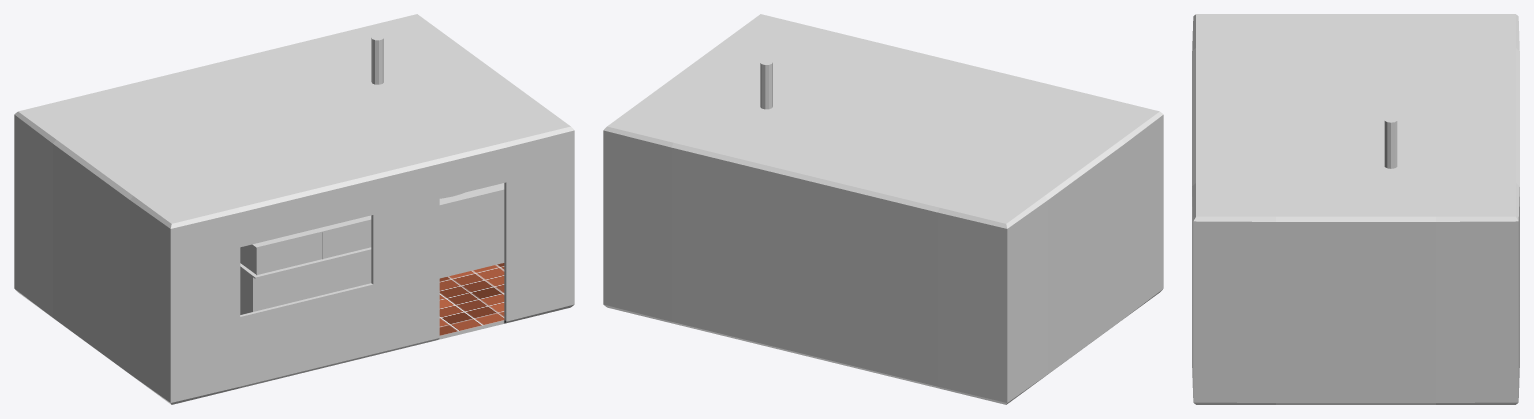
3 views of the same model, side by side, from view 1: azimuth 30°, elevation 25°; view 2: azimuth 150°, elevation 25°; view 3: azimuth 270°, elevation 25° (orthographic). The views are drawn at different scales.
Parts seen in each view (by area): view 1: Building_Baked, Counter_Baked, Oven_Baked; view 2: Building_Baked, Oven_Baked; view 3: Building_Baked, Oven_Baked.
Part boxes in pixels (box(x1,y1,x2,y2)): Building_Baked: box(14, 14, 574, 404); Counter_Baked: box(240, 215, 371, 314); Oven_Baked: box(371, 35, 504, 278); Building_Baked: box(603, 14, 1163, 404); Oven_Baked: box(760, 60, 772, 109); Building_Baked: box(1192, 14, 1519, 404); Oven_Baked: box(1384, 117, 1397, 168).
Bounding box in the file's own units: 6.1 × 3.24 × 4.1.
